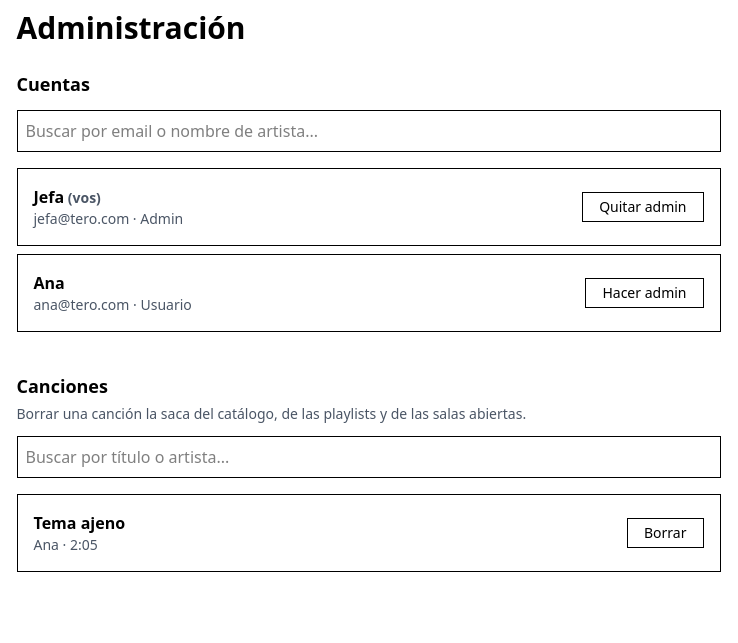
Admin › cambia el rol y muestra el resultado
Click the button "Hacer admin".
click(644, 293)  # box [585,278,704,308]
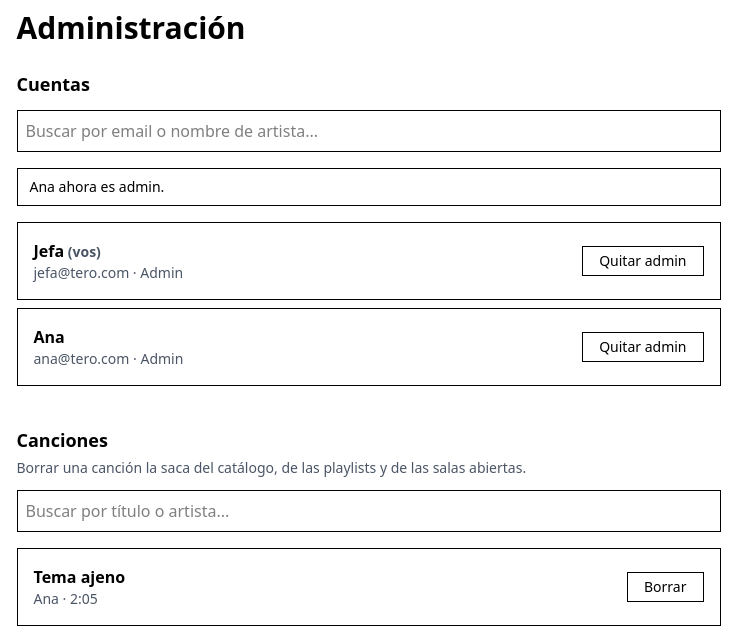
Check: the text "Ana ahora es admin." is shown, box [16,168,720,206]
